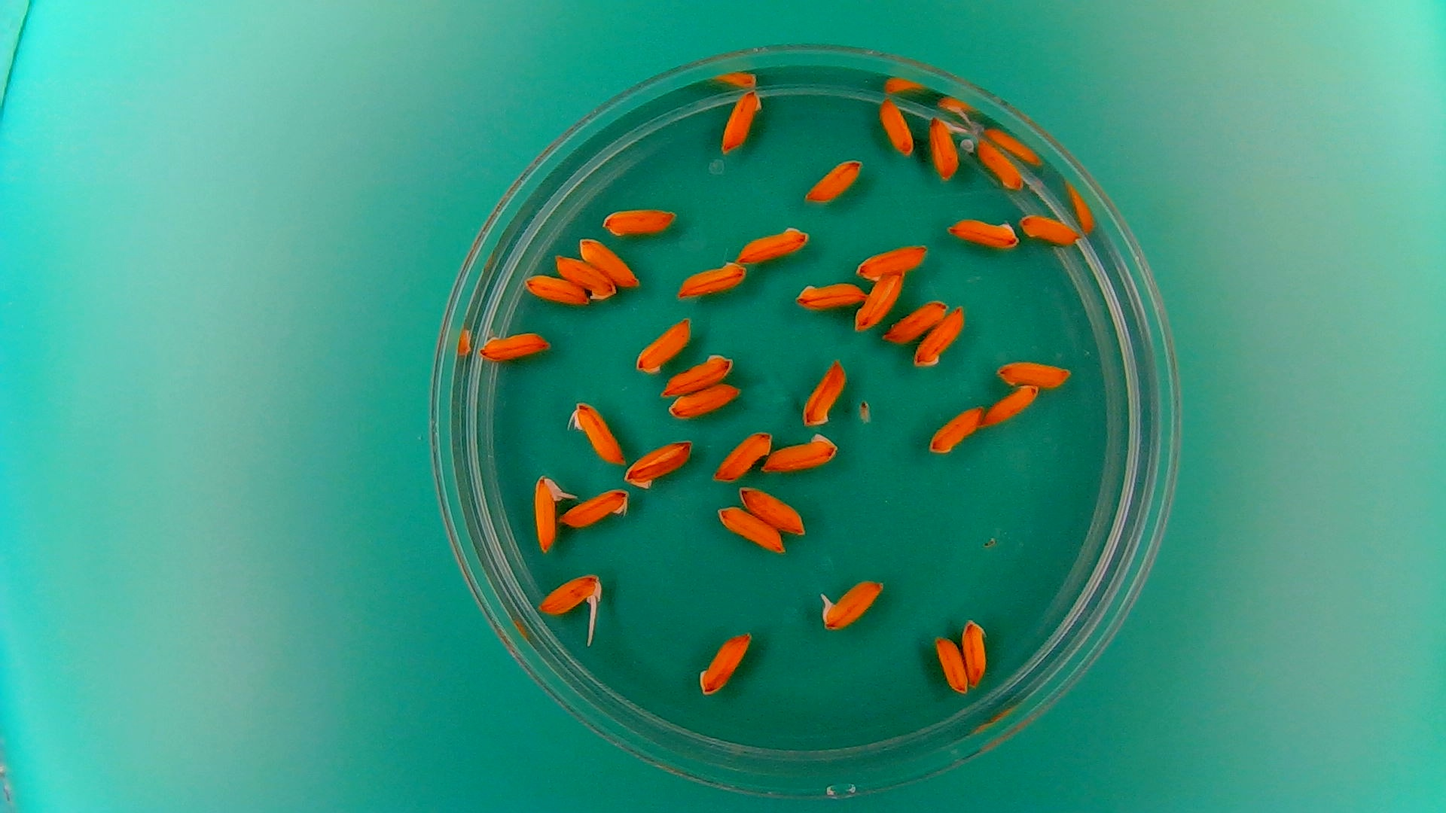no: (620, 435, 695, 490), (567, 397, 626, 466), (696, 628, 753, 697), (911, 303, 968, 370), (712, 502, 785, 553), (659, 349, 736, 397), (737, 484, 808, 536), (631, 314, 691, 375), (710, 426, 773, 483), (799, 355, 848, 428), (854, 266, 908, 332), (760, 430, 840, 474), (578, 234, 641, 288), (733, 222, 812, 265), (991, 358, 1075, 397), (557, 484, 631, 528), (883, 296, 950, 344), (552, 252, 616, 302), (926, 403, 984, 458), (853, 241, 929, 282), (718, 86, 763, 154), (667, 381, 743, 421), (675, 258, 746, 300), (802, 156, 863, 202), (600, 202, 679, 237), (944, 214, 1020, 250), (975, 135, 1023, 191), (982, 382, 1040, 428), (478, 327, 554, 362), (793, 278, 868, 309), (876, 96, 914, 157), (1017, 210, 1081, 246), (522, 272, 589, 306), (932, 632, 968, 695), (960, 615, 989, 688)
yes: (815, 575, 886, 632), (531, 471, 578, 554), (537, 571, 604, 620), (927, 113, 972, 185)
